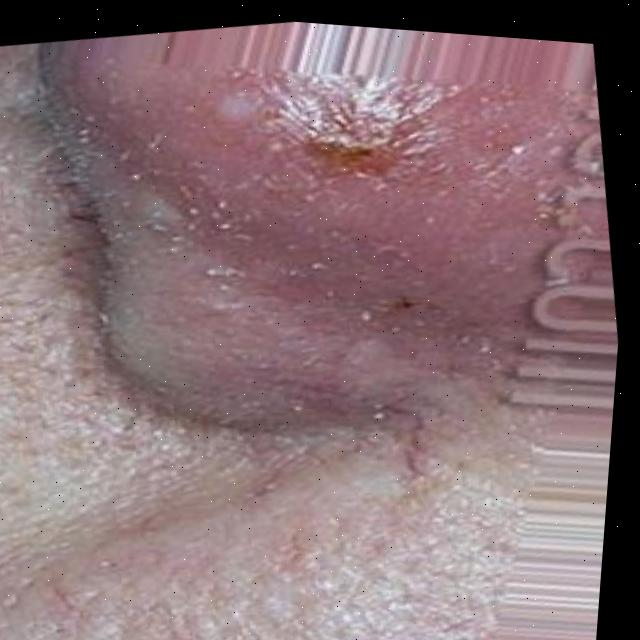Rosacea: (248, 68, 434, 217)
